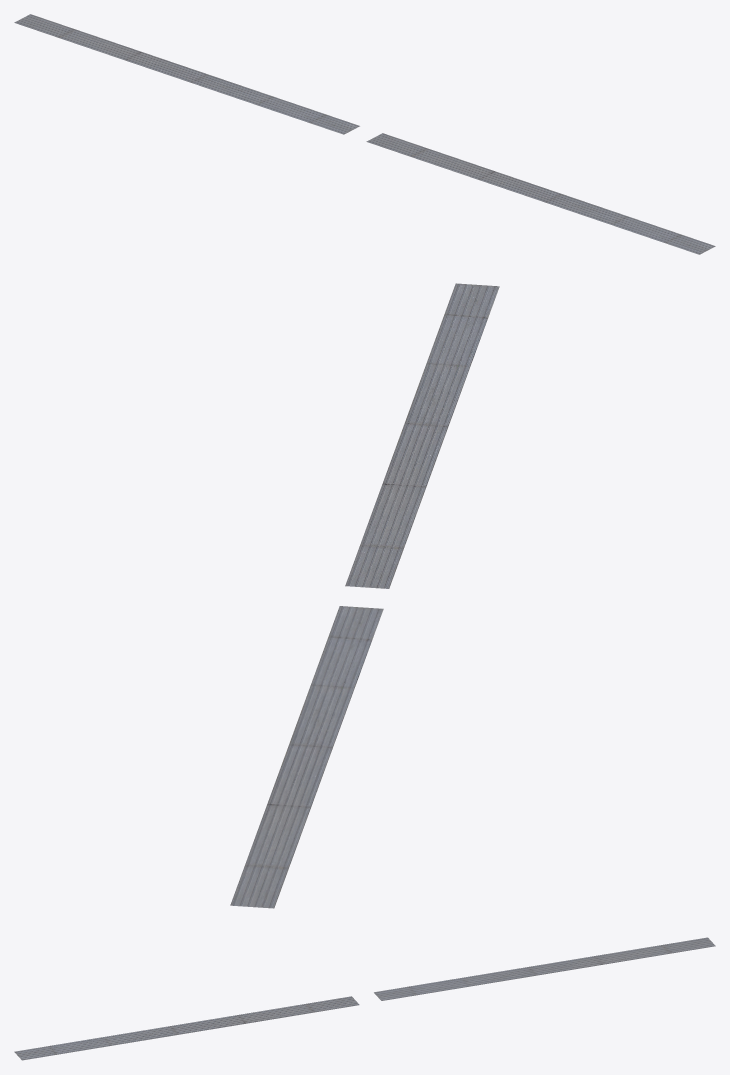
File: Vii_ribbed_elements.FBX
3 renders of one model, top to bottom at view 1: azimuth 30°, elevation 25°; view 2: azimuth 150°, elevation 25°; view 3: azimuth 270°, elevation 25°, orthographic. The views are drawn at different scales.
Visible parts, largest first — view 1: ribbed_A007, ribbed_A008; view 2: ribbed_A007, ribbed_A008; view 3: ribbed_A007, ribbed_A008.
Part boxes in pixels (box(x1,y1,x2,y2)): ribbed_A007: box(366, 133, 715, 254); ribbed_A008: box(14, 14, 359, 134); ribbed_A007: box(345, 283, 499, 588); ribbed_A008: box(230, 606, 383, 908); ribbed_A007: box(14, 996, 359, 1060); ribbed_A008: box(374, 937, 715, 1000).
Size of the model in its own units: 392 by 5.78e-14 by 944.
1 material, 1 textured.
